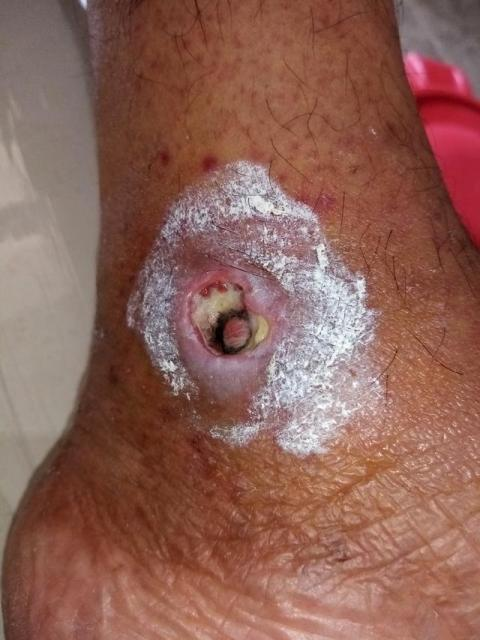wound: (187, 278, 272, 359)
